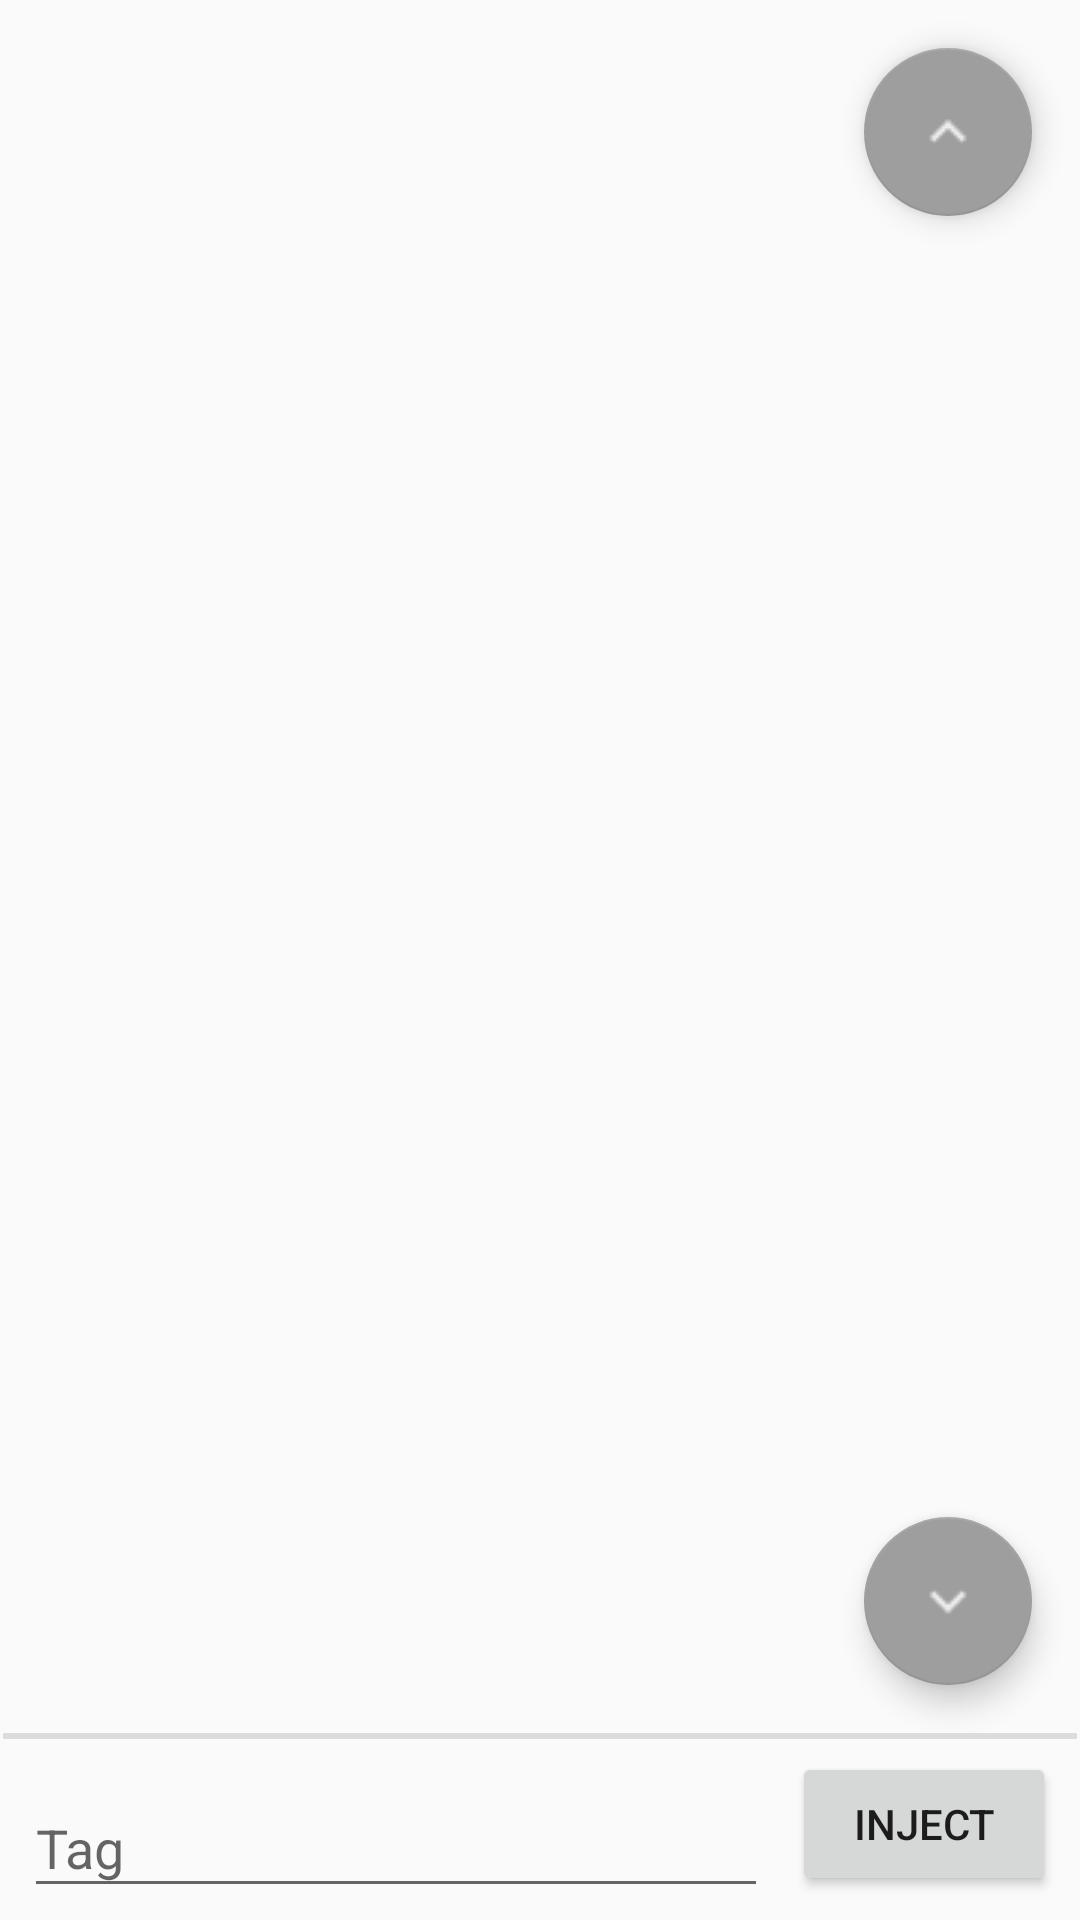

Named icons in this screenshot (1080px×1920px) and their centers, [x,y]:
down: [948,1601]
